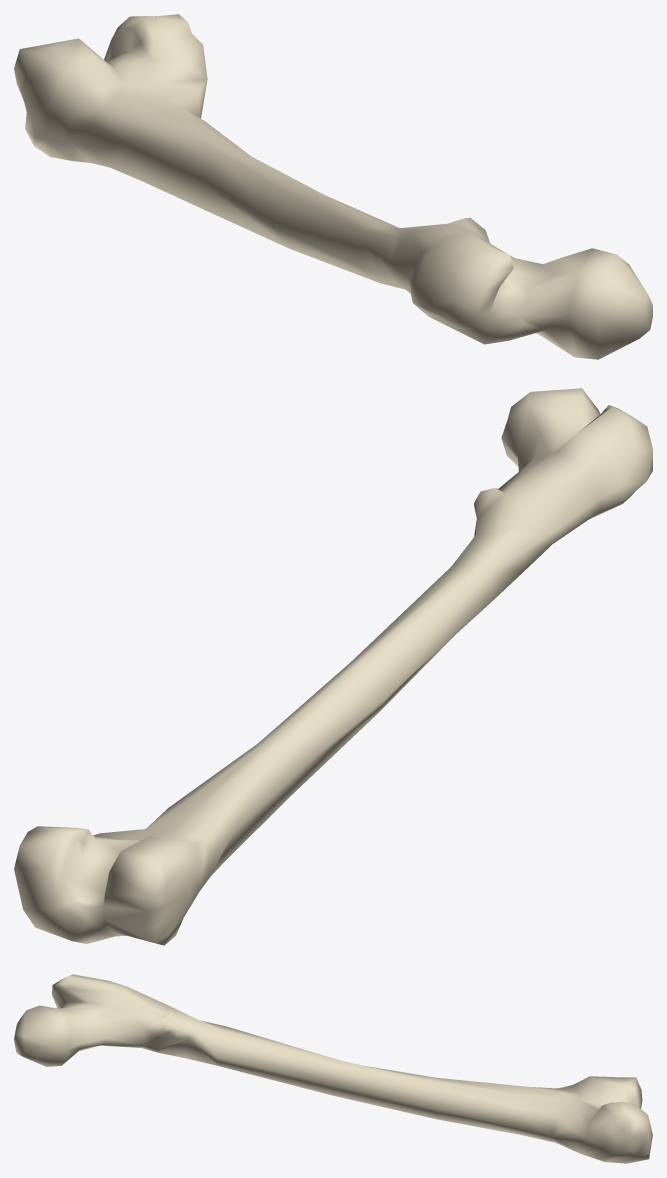
Rendered from 右大腿.obj.
3 views of the same model, one above another, from view 1: azimuth 30°, elevation 25°; view 2: azimuth 150°, elevation 25°; view 3: azimuth 270°, elevation 25° (orthographic). The views are drawn at different scales.
Bounding box in the file's own units: 0.0451 × 0.0508 × 0.1878.
